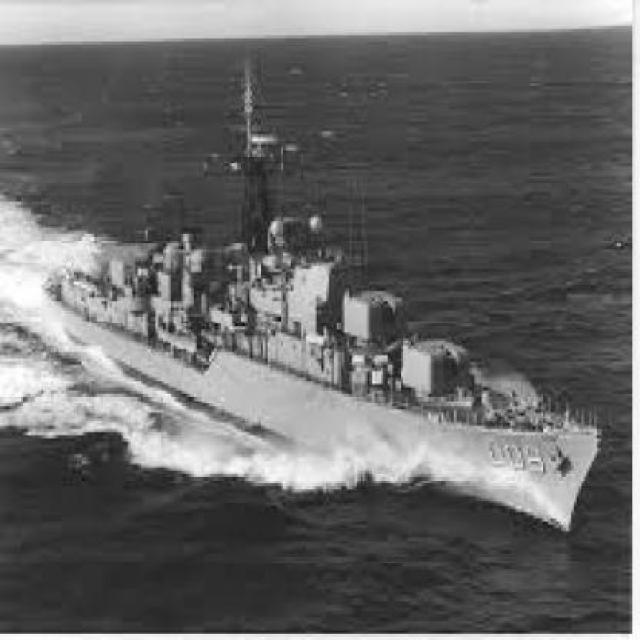warship2: (29, 43, 598, 552)
